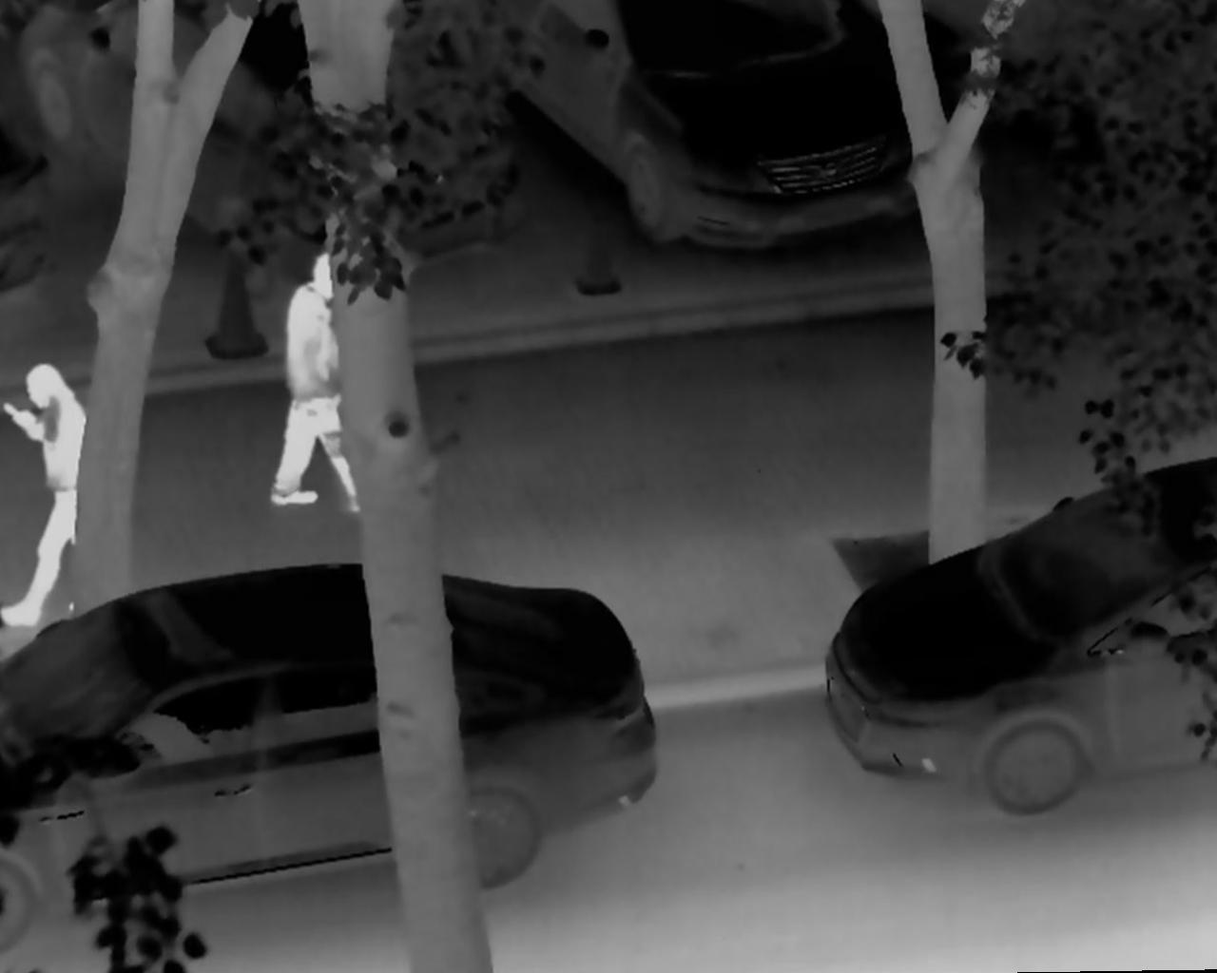person: (270, 249, 365, 514)
